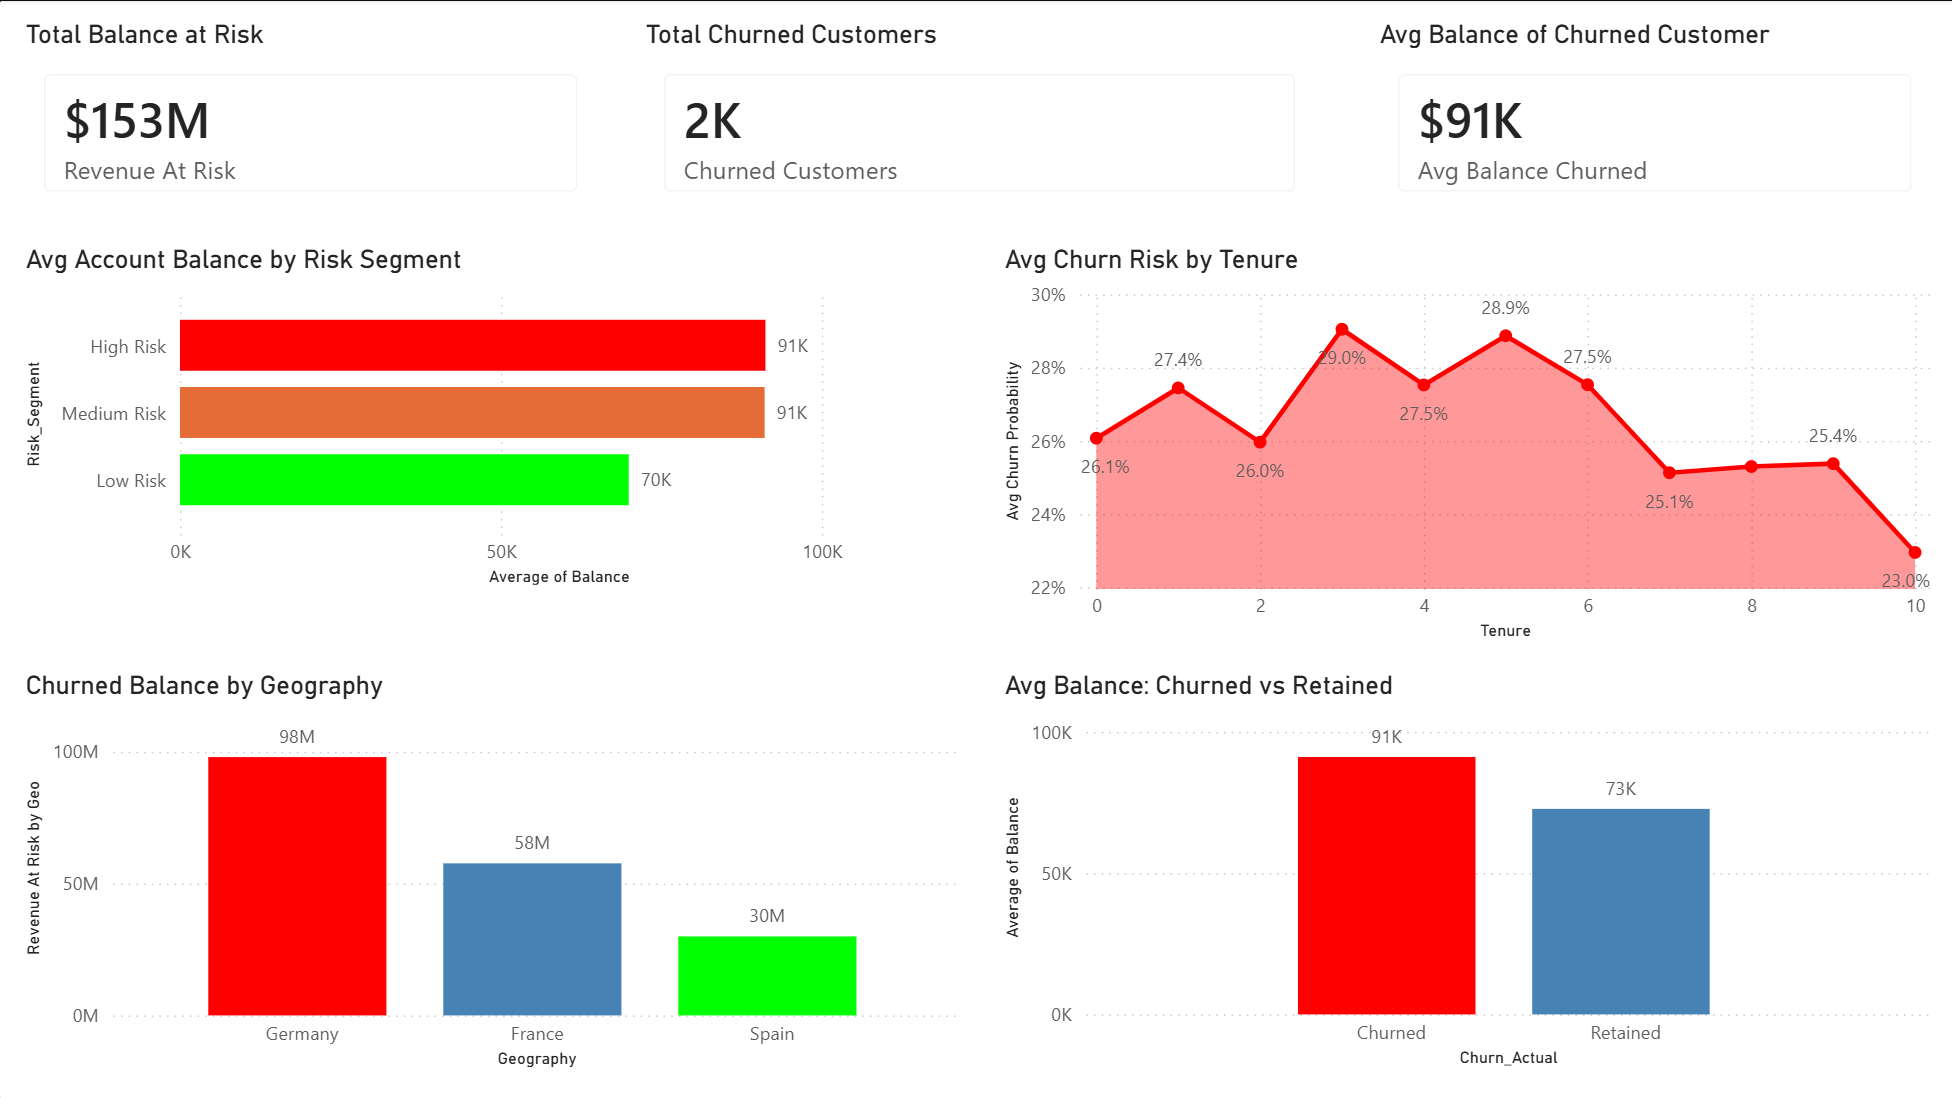

Layout of this report page (visuals, bound fields, positions):
{"tool":"powerbi","page":{"name":"Revenue Impact","canvas":[1280,720],"ordinal":3},"visuals":[{"type":"cardVisual","title":"Total Balance at Risk","fields":{"Data":["powerbi_export.Revenue At Risk"]},"box":[12.4,12.4,383.5,130.9],"z":0},{"type":"cardVisual","title":"Total Churned Customers","fields":{"Data":["powerbi_export.Churned Customers"]},"box":[418.2,12.4,447.6,130.9],"z":1},{"type":"cardVisual","title":"Avg Balance of Churned Customer","fields":{"Data":["powerbi_export.Avg Balance Churned"]},"box":[898.5,12.4,370.4,130.9],"z":2},{"type":"clusteredBarChart","title":"Avg Account Balance by Risk Segment","fields":{"Category":["powerbi_export.Risk_Segment"],"Y":["Avg(powerbi_export.Balance)"]},"box":[12.4,159.7,621.7,228.4],"z":3},{"type":"lineChart","title":"Avg Churn Risk by Tenure","fields":{"Category":["powerbi_export.Tenure"],"Y":["powerbi_export.Avg Churn Probability"]},"box":[653.1,159.7,615.8,263.7],"z":4},{"type":"clusteredColumnChart","title":"Churned Balance by Geography","fields":{"Category":["powerbi_export.Geography"],"Y":["powerbi_export.Revenue At Risk by Geo"]},"box":[12.4,438.4,621.7,265],"z":5},{"type":"clusteredColumnChart","title":"Avg Balance: Churned vs Retained","fields":{"Category":["powerbi_export.Churn_Actual"],"Y":["Avg(powerbi_export.Balance)"]},"box":[653.1,438.4,615.8,264.4],"z":6}]}

Visuals, with their boxes in screenshot pixels (x1, y1, x2, y2), scaled from the page's 1280x720 canvas onto the 1952x1098 screenshot:
"Total Balance at Risk" cardVisual: locate(19, 19, 604, 219)
"Total Churned Customers" cardVisual: locate(638, 19, 1320, 219)
"Avg Balance of Churned Customer" cardVisual: locate(1370, 19, 1935, 219)
"Avg Account Balance by Risk Segment" clusteredBarChart: locate(19, 244, 967, 592)
"Avg Churn Risk by Tenure" lineChart: locate(996, 244, 1935, 646)
"Churned Balance by Geography" clusteredColumnChart: locate(19, 669, 967, 1073)
"Avg Balance: Churned vs Retained" clusteredColumnChart: locate(996, 669, 1935, 1072)
